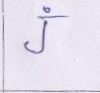anusvara: (44, 7, 50, 13)
